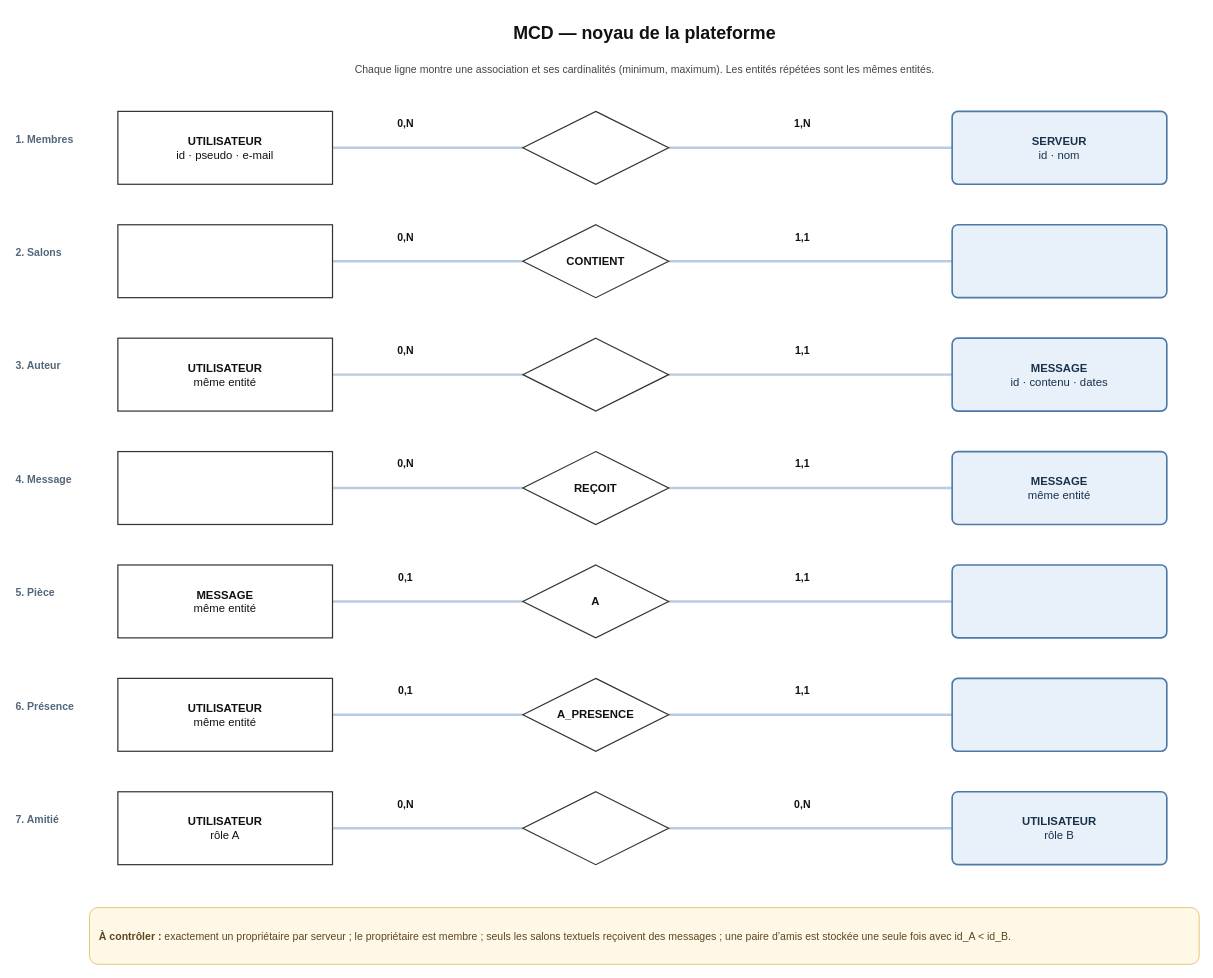
The diagram is 1213 pixels wide and 978 high, and some of its shapes have lost their labels. Here are the shapes that lost their labels. From the top down, the centre of each, then its label:
At pixel 595 147: "APPARTENANCE role".
At pixel 225 261: "SERVEUR même entité".
At pixel 1059 261: "SALON id · nom · type".
At pixel 595 374: "ÉCRIT".
At pixel 225 488: "SALON même entité".
At pixel 1059 601: "PIÈCE JOINTE type · emplacement".
At pixel 1059 714: "PRÉSENCE statut · dernière activité".
At pixel 595 828: "AMITIÉ".
